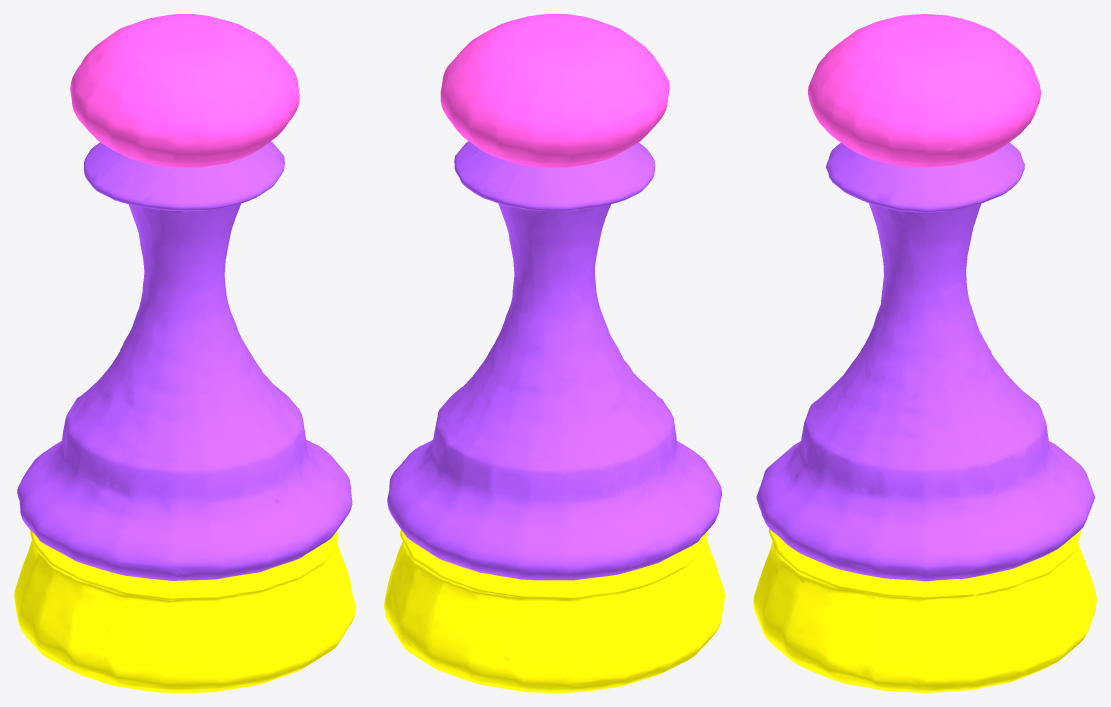
File: ex3_gen1.glb
3 renders of one model, left to right at view 1: azimuth 30°, elevation 25°; view 2: azimuth 150°, elevation 25°; view 3: azimuth 270°, elevation 25°, orthographic.
Visible parts, largest first — view 1: geometry_0, geometry_2, geometry_1; view 2: geometry_0, geometry_2, geometry_1; view 3: geometry_0, geometry_2, geometry_1.
Part boxes in pixels (x1,y1,x2,y2): geometry_0: (17, 141, 352, 580); geometry_2: (14, 529, 355, 692); geometry_1: (70, 14, 299, 167); geometry_0: (387, 141, 721, 580); geometry_2: (384, 529, 724, 692); geometry_1: (440, 14, 669, 167); geometry_0: (756, 142, 1094, 581); geometry_2: (753, 529, 1096, 692); geometry_1: (807, 14, 1040, 167).
Size of the model in its own units: 0.6131 by 1.19 by 0.6163.
